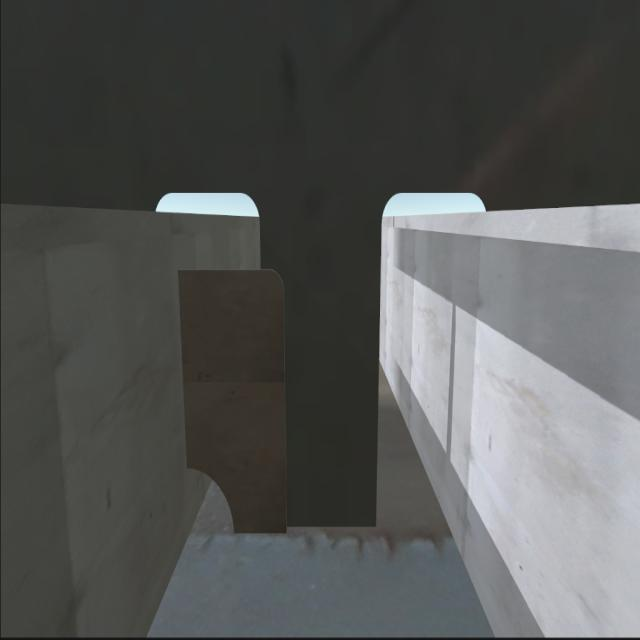fillet_hole: (186, 469, 237, 529)
fillet_yong_jeop_jang: (228, 514, 382, 546)
longi_yong_jeop_jang: (174, 260, 197, 477)
plate_CP05: (179, 267, 292, 535)
